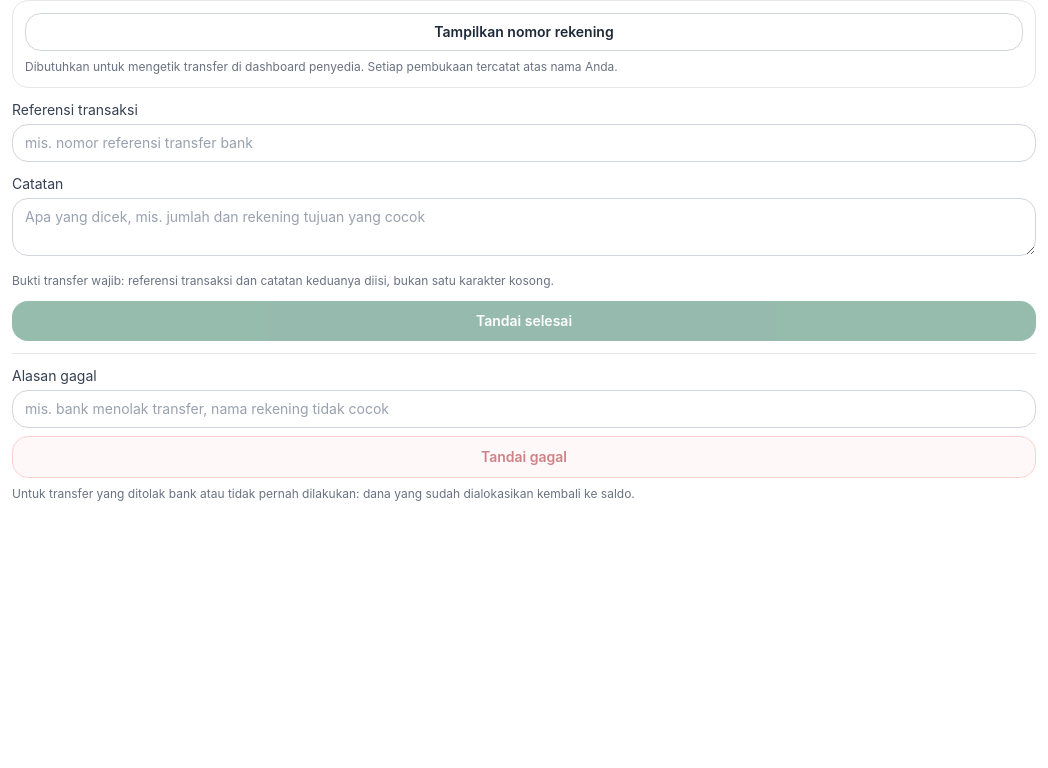
Scenario: AdminPayoutActionForm -- opening the account number (ticket 89) › shows the server refusal and no number
What coordinates should you click on to do the following:
click the button "Tampilkan nomor rekening"
I would click on:
 (524, 32)
Its box is [25, 13, 1023, 51].
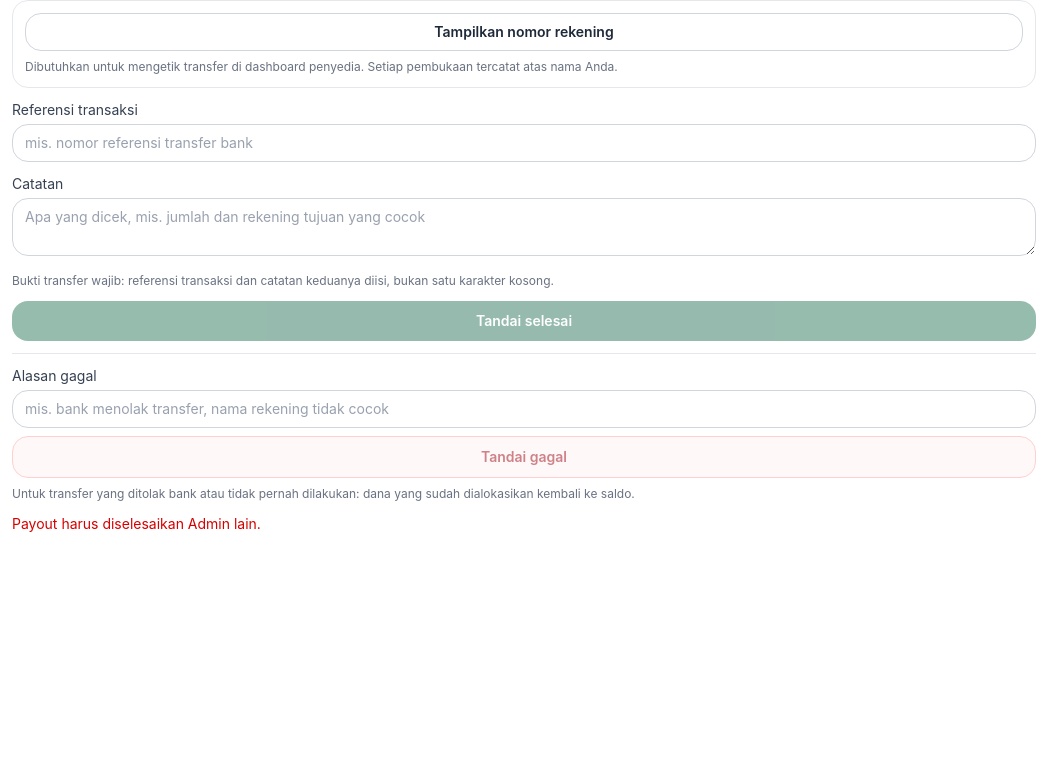
Expected: the message reads "Payout harus diselesaikan Admin lain.", [12, 515, 261, 532]
